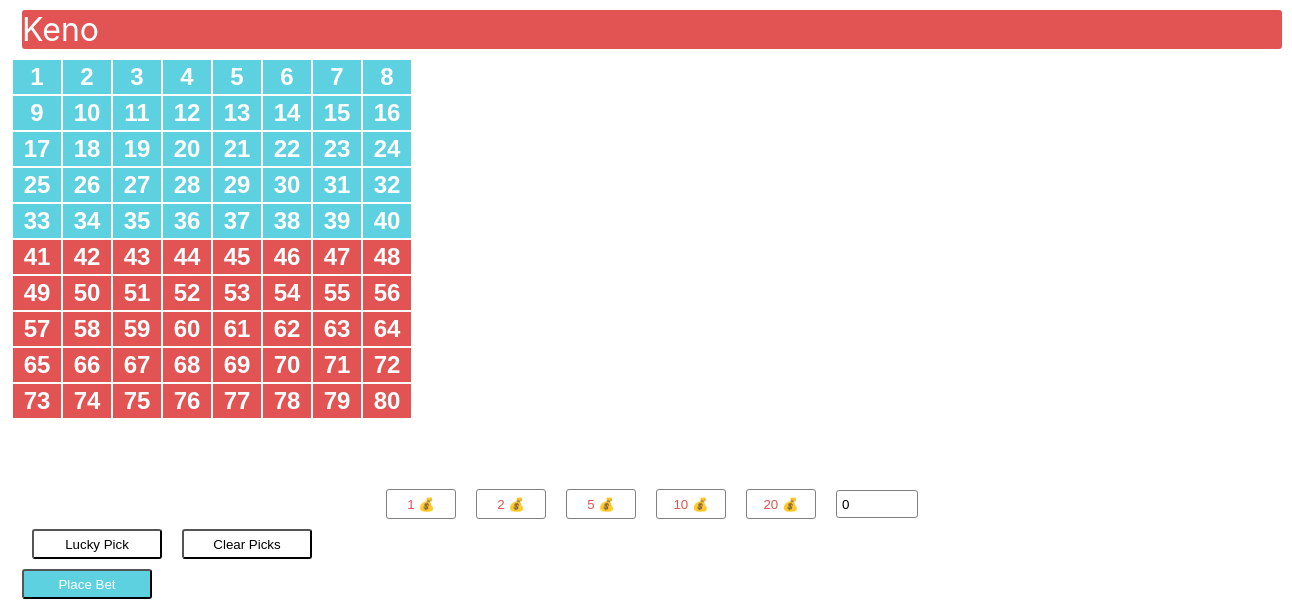
it: Click Place Bet before selecting numbers renders prompt to select picks
The image size is (1292, 616).
What coordinates should you click on to do the following:
click the button "Place Bet"
I would click on:
 (87, 584)
Its box is [22,569,152,599].
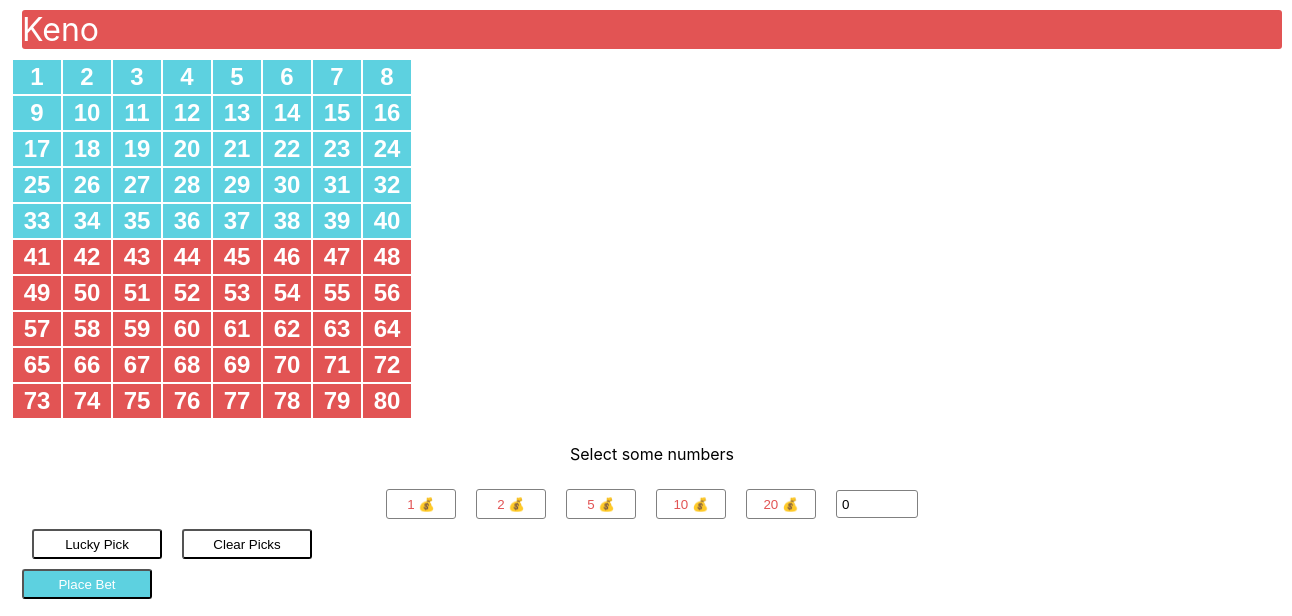
Result: the text "Select some numbers" is shown at [570,444,734,464]
